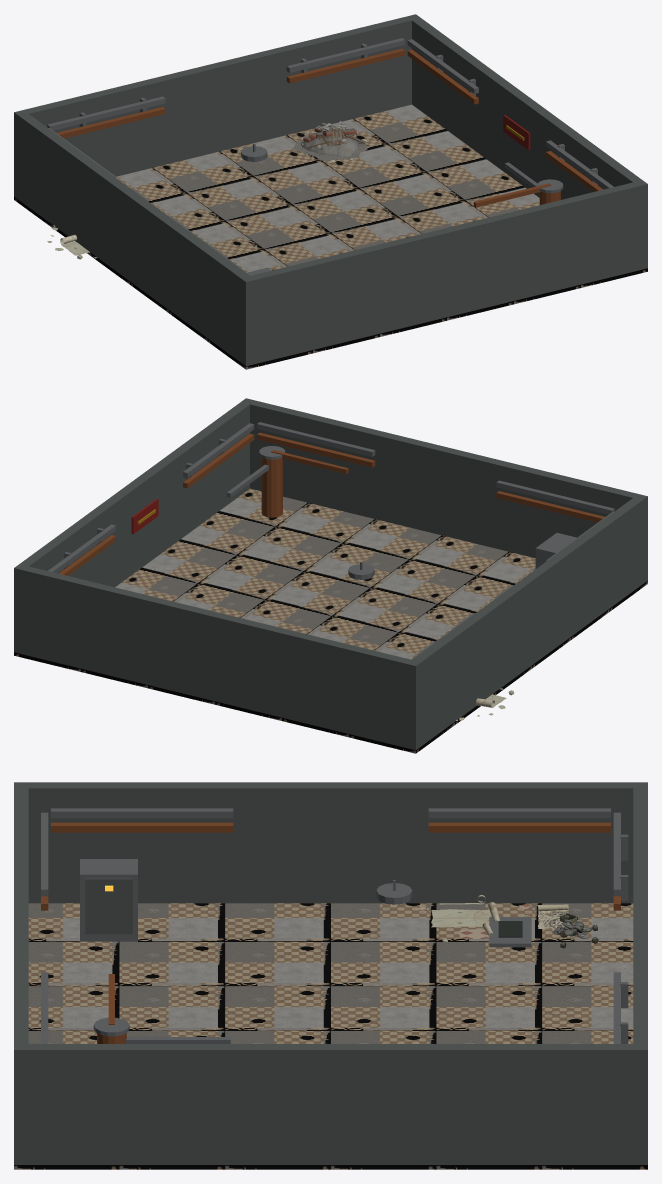
File: room_pipe_gallery.glb
3 renders of one model, top to bottom at view 1: azimuth 30°, elevation 25°; view 2: azimuth 150°, elevation 25°; view 3: azimuth 270°, elevation 25°, orthographic. The views are drawn at different scales.
Parts seen in each view (by area): view 1: Floor, Wall_S_A, Wall_S_B, Wall_N_B, Wall_N_A, Wall_W_A, Wall_W_B, Wall_E_B, Plug_S, Plug_N, Plug_W, Wall_E_A (+15 smaller); view 2: Floor, Wall_N_A, Wall_N_B, Wall_S_B, Wall_S_A, Wall_W_A, Wall_W_B, Wall_E_A, Plug_N, Plug_S, Plug_W, Wall_E_B (+16 smaller); view 3: Floor, Wall_E_A, Wall_E_B, Wall_W_B, Wall_W_A, Plug_E, Plug_W, Wall_N_B, Wall_S_B, Wall_E_L, Wall_W_L, NoCol_CabinetDoor (+18 smaller).
Boxes of the visible parts, <box> form: Floor: <box>14,104,647,369</box>; Wall_S_A: <box>240,240,403,366</box>; Wall_S_B: <box>485,180,647,306</box>; Wall_N_B: <box>259,14,420,140</box>; Wall_N_A: <box>14,74,176,199</box>; Wall_W_A: <box>155,213,249,361</box>; Wall_W_B: <box>19,114,113,262</box>; Wall_E_B: <box>412,18,506,166</box>; Plug_S: <box>403,233,490,327</box>; Plug_N: <box>177,67,263,161</box>; Plug_W: <box>105,189,155,299</box>; Wall_E_A: <box>547,117,641,199</box>; Floor: <box>14,488,647,753</box>; Wall_N_A: <box>258,624,421,750</box>; Wall_N_B: <box>14,564,176,690</box>; Wall_S_B: <box>241,398,402,524</box>; Wall_S_A: <box>485,458,647,583</box>; Wall_W_A: <box>548,498,642,646</box>; Wall_W_B: <box>412,597,506,745</box>; Wall_E_A: <box>155,402,249,550</box>; Plug_N: <box>171,617,258,711</box>; Plug_S: <box>398,451,484,545</box>; Plug_W: <box>506,573,556,683</box>; Wall_E_B: <box>20,501,114,586</box>; Floor: <box>14,903,647,1169</box>; Wall_E_A: <box>28,1044,262,1164</box>; Wall_E_B: <box>399,1044,633,1164</box>; Wall_W_B: <box>399,782,633,903</box>; Wall_W_A: <box>28,782,262,903</box>; Plug_E: <box>262,1064,399,1164</box>; Plug_W: <box>262,802,399,903</box>; Wall_N_B: <box>633,945,647,1164</box>; Wall_S_B: <box>14,945,28,1164</box>; Wall_E_L: <box>262,1044,399,1064</box>; Wall_W_L: <box>262,782,399,802</box>; NoCol_CabinetDoor: <box>85,878,132,934</box>.
Size of the model in its own units: 12.72 by 2.5 by 12.
Materials: 13 (4 with a texture image).
